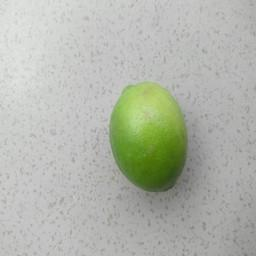Good_lime: (109, 77, 191, 194)
